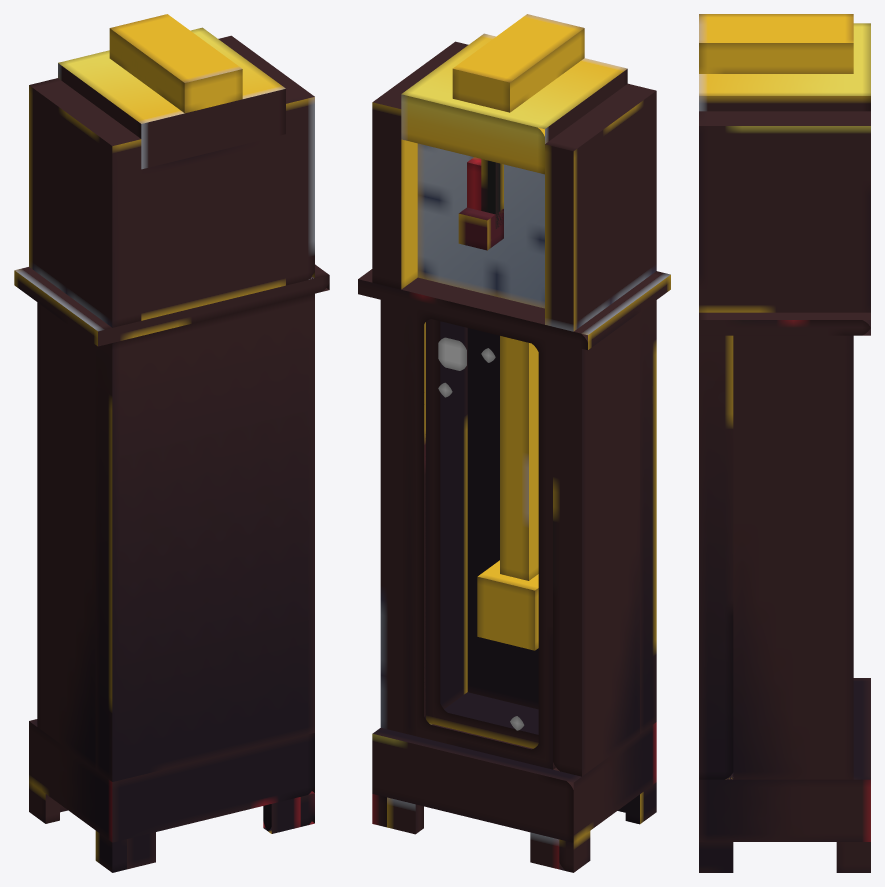
The model's file is Clock.fbx.
The picture shows the model from 3 angles, left to right: view 1: azimuth 30°, elevation 25°; view 2: azimuth 150°, elevation 25°; view 3: azimuth 270°, elevation 25°; orthographic projection. The views are drawn at different scales.
Visible parts, largest first — view 1: cube_9, cube_10, cube_15, cube_22, cube_8, cube_17, cube_18, cube_16, cube_13, cube_3, cube_5, cube_2 (+1 smaller); view 2: cube_10, cube_12, cube_11, cube_15, cube_8, cube_9, cube_14, cube_17, cube_20, cube_16, cube_13, cube_18 (+8 smaller); view 3: cube_11, cube_16, cube_9, cube_8, cube_18, cube_17, cube_13, cube_6, cube_7.
Part boxes in pixels (x1,y1,x2,y2): cube_9: (95,293,314,781); cube_10: (37,302,95,769); cube_15: (29,78,141,327); cube_22: (141,134,285,320); cube_8: (29,719,314,842); cube_17: (58,27,285,169); cube_18: (109,14,242,113); cube_16: (218,35,314,285); cube_13: (14,264,329,346); cube_3: (263,797,300,833); cube_5: (95,831,126,872); cube_2: (127,832,155,869); cube_10: (553,312,639,776); cube_12: (409,307,555,769); cube_11: (380,300,467,734); cube_15: (545,83,656,331); cube_8: (372,692,656,842); cube_9: (467,300,656,733); cube_14: (417,143,544,308); cube_17: (401,33,627,174); cube_20: (500,336,538,580); cube_16: (372,41,468,289); cube_13: (358,269,670,350); cube_18: (452,14,584,112); cube_11: (733,335,853,779); cube_16: (699,111,870,312); cube_9: (699,335,733,779); cube_8: (699,678,870,841); cube_18: (699,14,853,73); cube_17: (699,23,870,111); cube_13: (699,312,870,335); cube_6: (836,842,870,872); cube_7: (699,842,733,872).
Bounding box in the file's own units: 100 × 319 × 62.5.
1 material, 1 textured.
